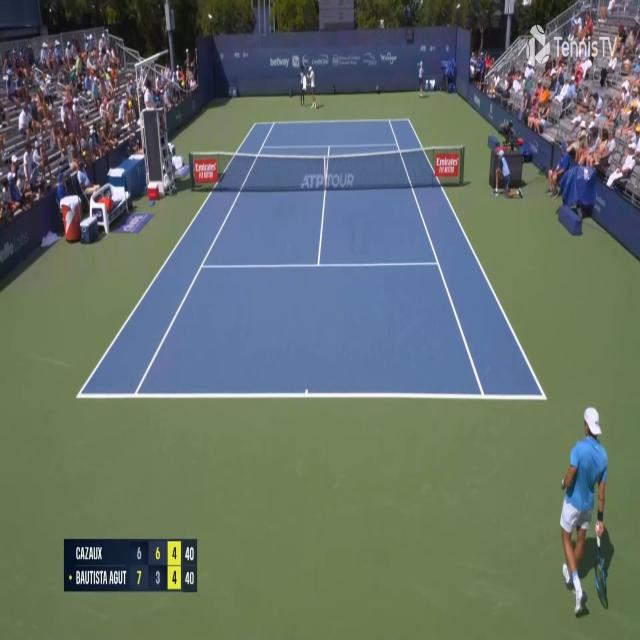tennis-player: (558, 398, 616, 618), (306, 66, 318, 110)
